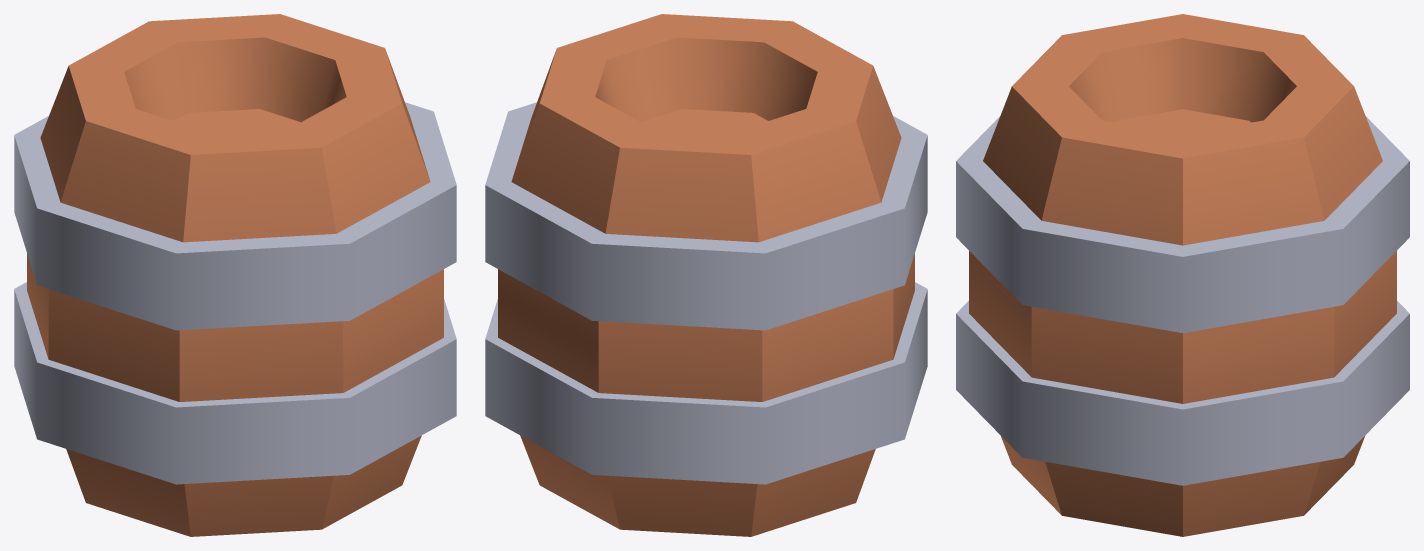
Rendered from barrel.glb.
3 renders of one model, left to right at view 1: azimuth 30°, elevation 25°; view 2: azimuth 150°, elevation 25°; view 3: azimuth 270°, elevation 25°, orthographic.
Parts seen in each view (by area): view 1: barrel; view 2: barrel; view 3: barrel.
Part boxes in pixels (x1,y1,x2,y2): barrel: [14, 14, 456, 536]; barrel: [485, 14, 927, 536]; barrel: [956, 14, 1409, 536].
Size of the model in its own units: 0.5176 by 0.4762 by 0.5176.
